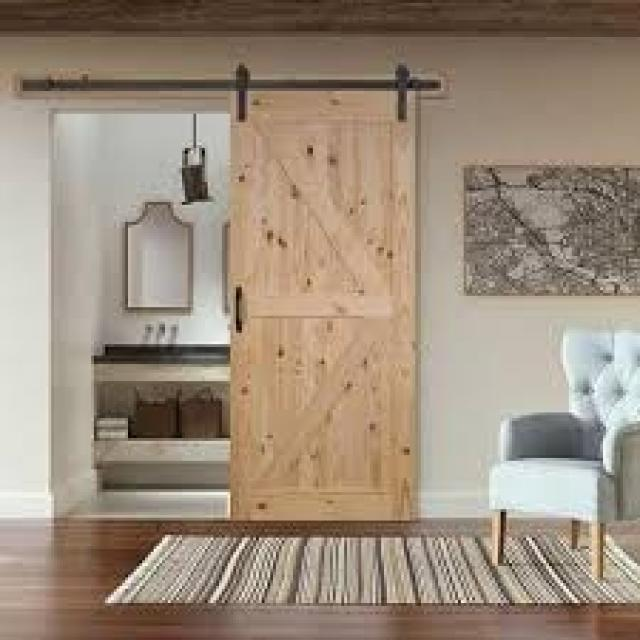door: (228, 77, 421, 523)
